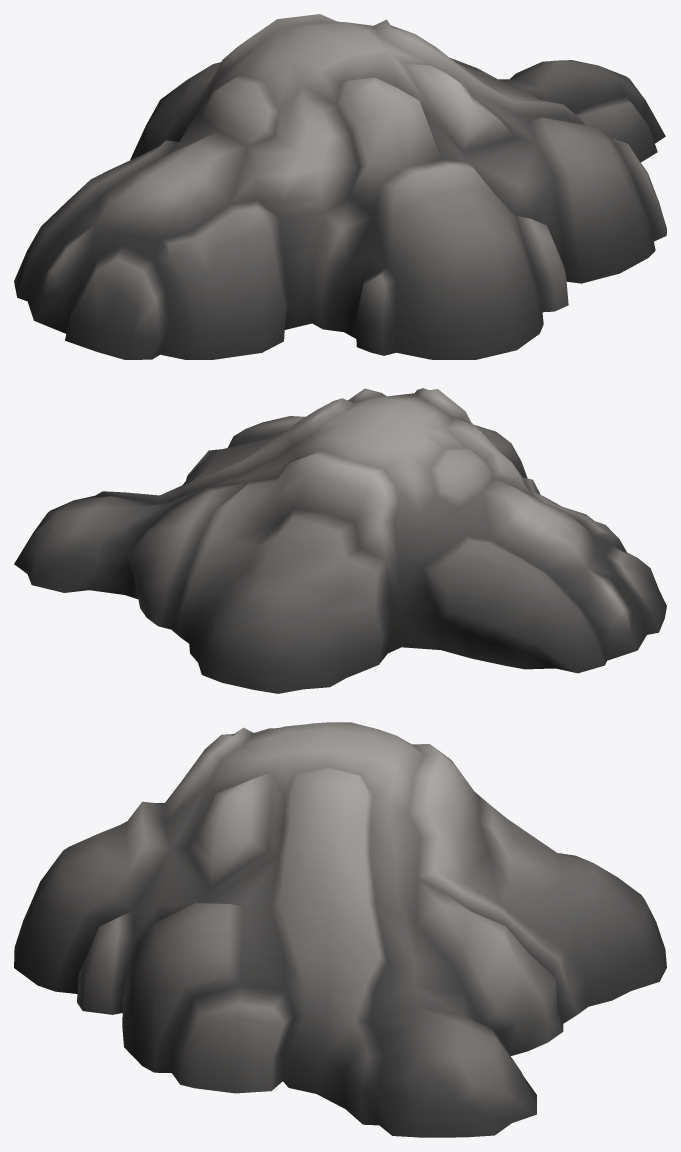
The model's file is m_Rock04_A.fbx.
The picture shows the model from 3 angles, top to bottom: view 1: azimuth 30°, elevation 25°; view 2: azimuth 150°, elevation 25°; view 3: azimuth 270°, elevation 25°; orthographic projection. The views are drawn at different scales.
Parts seen in each view (by area): view 1: m_Rock04_A; view 2: m_Rock04_A; view 3: m_Rock04_A.
Boxes of the visible parts, x1,y1,x2,y2 form: m_Rock04_A: (14, 14, 666, 359); m_Rock04_A: (14, 388, 666, 693); m_Rock04_A: (14, 722, 666, 1137).
Bounding box in the file's own units: 1419 × 432 × 1158.
